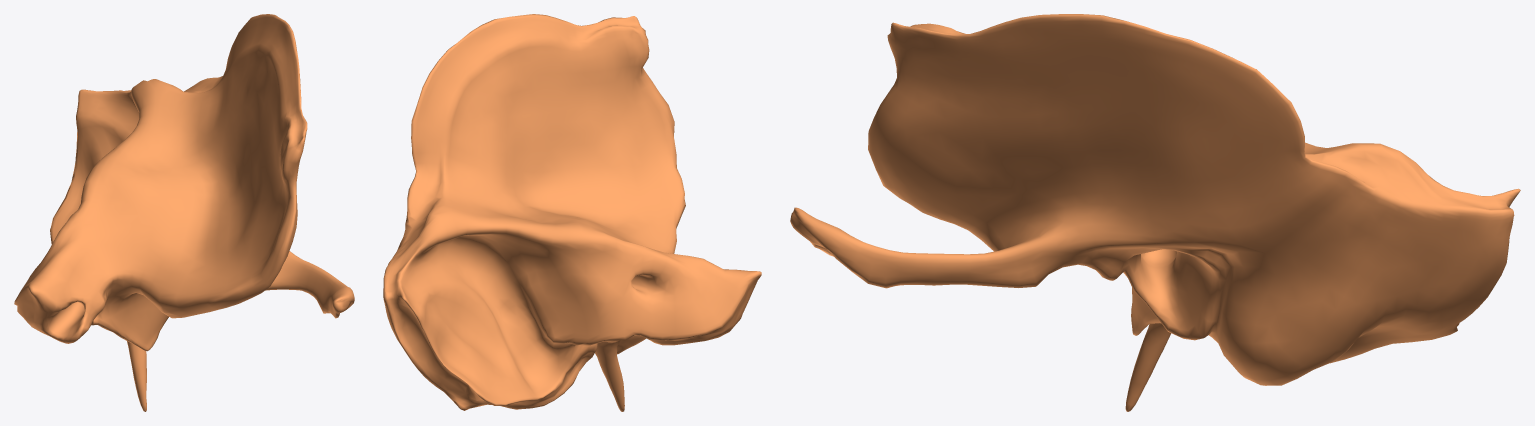
The model's file is Temporal_Izquierdo.glb.
3 renders of one model, left to right at view 1: azimuth 30°, elevation 25°; view 2: azimuth 150°, elevation 25°; view 3: azimuth 270°, elevation 25°, orthographic. The views are drawn at different scales.
Visible parts, largest first — view 1: Temporal Izquierdo; view 2: Temporal Izquierdo; view 3: Temporal Izquierdo.
Part boxes in pixels (x1,y1,x2,y2): Temporal Izquierdo: [14, 14, 354, 411]; Temporal Izquierdo: [383, 14, 761, 411]; Temporal Izquierdo: [790, 14, 1520, 411].
Size of the model in its own units: 0.0604 by 0.0724 by 0.0981.
